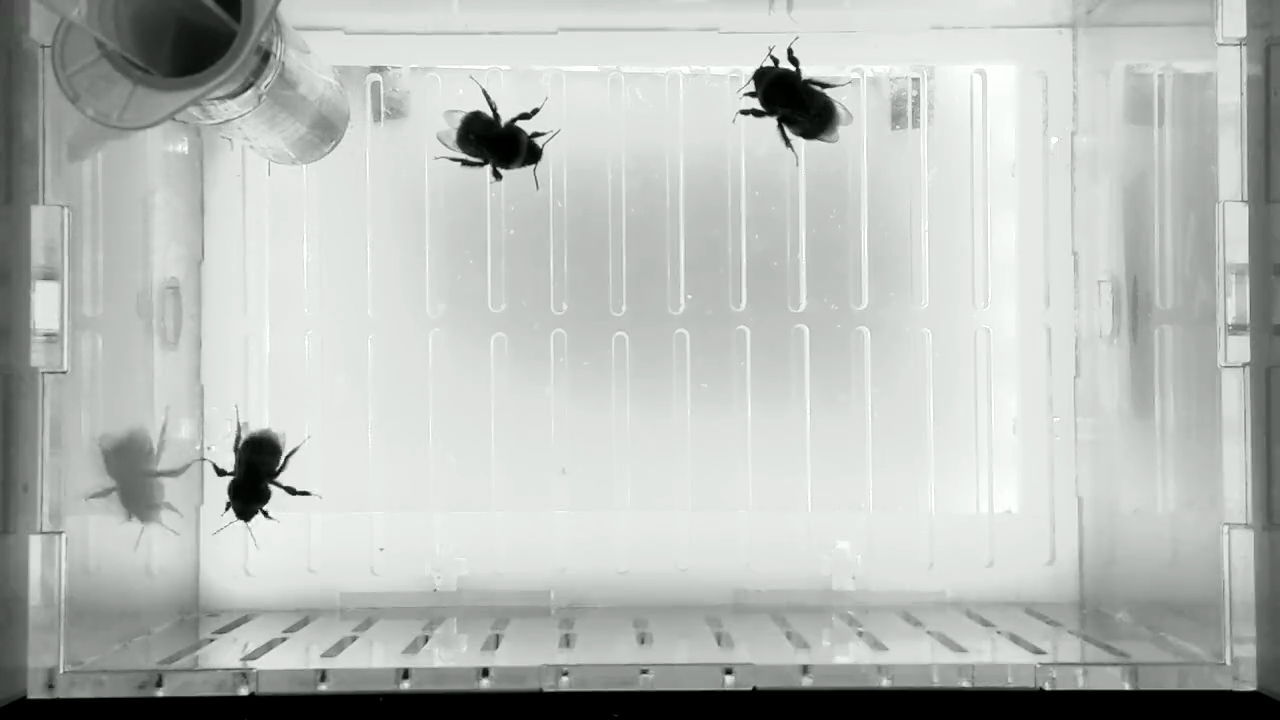bee_alive: (195, 401, 328, 552), (730, 34, 860, 169), (430, 70, 565, 194)
feeder: (197, 11, 358, 169)
